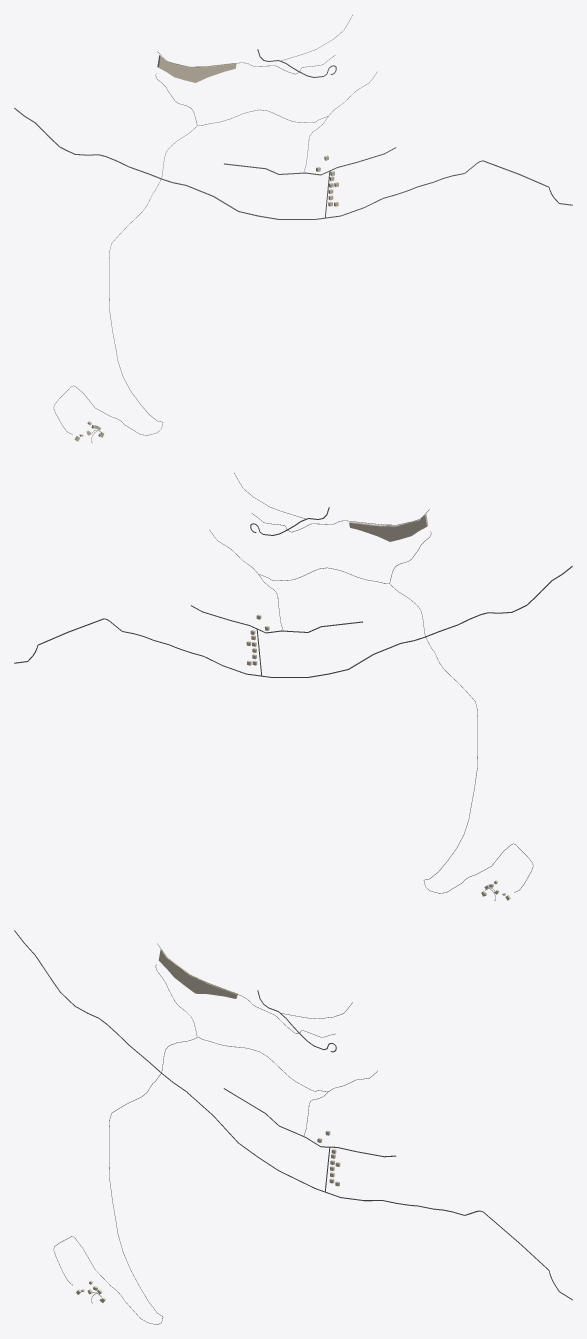
File: historic-palestine-09_22_3510_3168.glb
3 views of the same model, one above another, from view 1: azimuth 30°, elevation 25°; view 2: azimuth 150°, elevation 25°; view 3: azimuth 330°, elevation 25° (orthographic).
Parts seen in each view (by area): view 1: Road, Building_.017; view 2: Road, Building_.017; view 3: Road, Building_.017.
Boxes of the visible parts, x1=… form: Road: x1=14, y1=108, x2=572, y2=219; Building_.017: x1=157, y1=55, x2=236, y2=82; Road: x1=14, y1=566, x2=572, y2=677; Building_.017: x1=349, y1=514, x2=428, y2=541; Road: x1=14, y1=930, x2=572, y2=1300; Building_.017: x1=158, y1=948, x2=237, y2=998.
Size of the model in its own units: 1829 by 1194 by 8.7.
